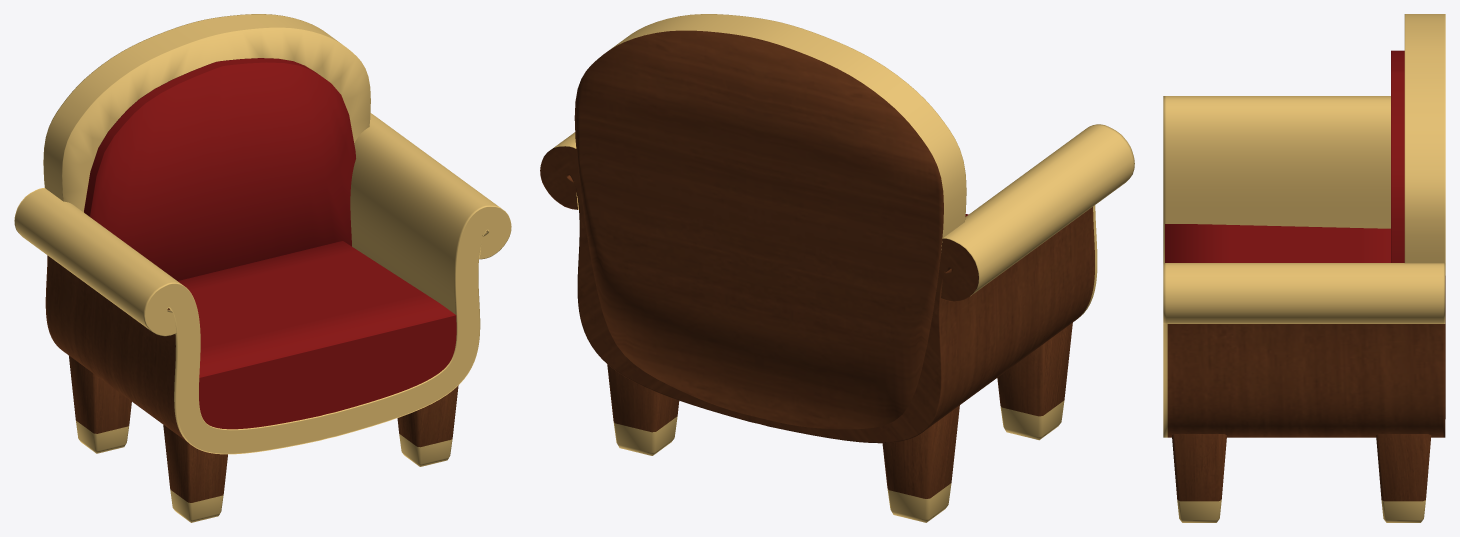
File: Armchair.fbx
The picture shows the model from 3 angles, left to right: view 1: azimuth 30°, elevation 25°; view 2: azimuth 150°, elevation 25°; view 3: azimuth 270°, elevation 25°; orthographic projection. The views are drawn at different scales.
Parts seen in each view (by area): view 1: NurbsPath, NurbsPath.003, NurbsPath.002, NurbsPath.001, Cube.004; view 2: NurbsPath.001, NurbsPath, Cube.004; view 3: NurbsPath, NurbsPath.001, Cube.004, NurbsPath.002, NurbsPath.003.
Part boxes in pixels (x1,y1,x2,y2): NurbsPath: [14, 113, 511, 454]; NurbsPath.003: [84, 58, 355, 280]; NurbsPath.002: [178, 241, 456, 429]; NurbsPath.001: [43, 14, 370, 212]; Cube.004: [69, 356, 458, 522]; NurbsPath.001: [574, 14, 966, 429]; NurbsPath: [540, 124, 1134, 443]; Cube.004: [607, 322, 1072, 522]; NurbsPath: [1163, 96, 1445, 437]; NurbsPath.001: [1404, 14, 1445, 418]; Cube.004: [1172, 434, 1431, 522]; NurbsPath.002: [1165, 224, 1390, 262]; NurbsPath.003: [1391, 50, 1404, 262].
Bounding box in the file's own units: 224 × 223 × 138.
